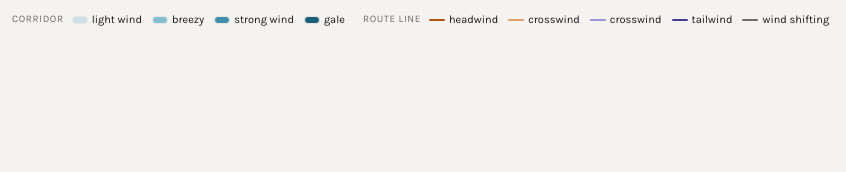
the key beside the choice › says a route-line entry replaces the steepness edging, under the pointer
This screenshot has width=846, height=172.
Hover over the button "headwind" at (464, 20), box [427,14,500,25]
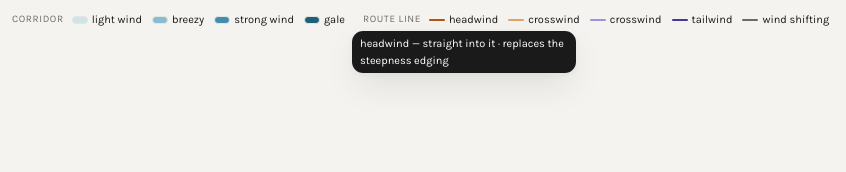
Expected: the tooltip shows "replaces the steepness edging", [360,37,564,67]
